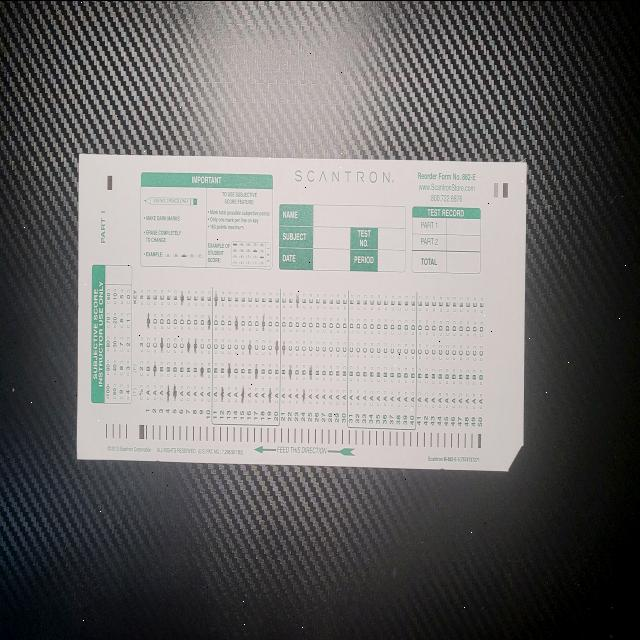scantron: (76, 152, 527, 469)
